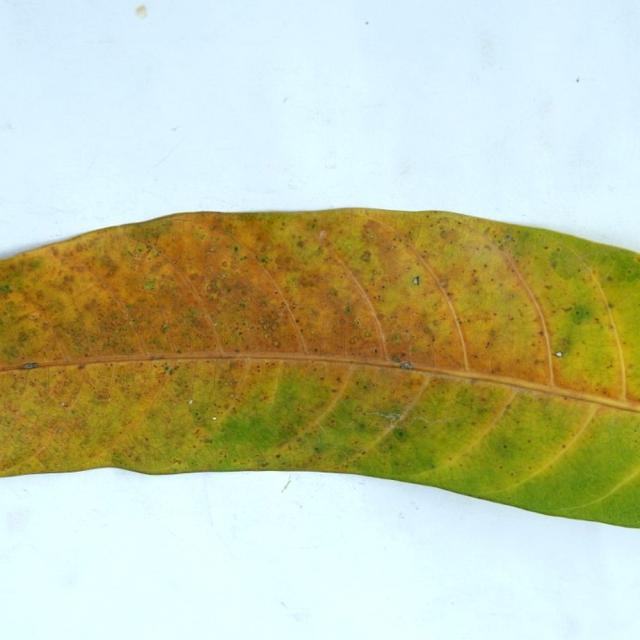Mango: (0, 209, 639, 527)
Powdery_Mildew: (356, 407, 451, 473), (374, 228, 420, 261), (550, 245, 590, 281), (6, 323, 41, 354), (453, 388, 492, 413), (611, 256, 640, 285), (296, 269, 330, 293), (415, 323, 438, 347), (171, 377, 193, 399), (569, 304, 593, 324), (129, 241, 149, 258), (554, 337, 571, 355), (205, 277, 223, 294), (260, 317, 279, 333), (392, 427, 407, 443), (396, 353, 413, 367), (497, 235, 515, 248), (103, 264, 117, 277), (4, 347, 19, 358), (359, 250, 371, 262), (390, 334, 402, 344), (143, 281, 155, 291), (187, 308, 198, 317), (28, 313, 40, 321), (469, 378, 481, 386), (166, 365, 176, 374), (296, 240, 306, 249), (440, 230, 450, 239), (392, 355, 401, 364), (382, 443, 392, 451), (550, 259, 558, 269), (260, 255, 270, 263), (362, 330, 372, 338), (438, 279, 447, 287), (1, 284, 11, 291), (238, 300, 246, 308), (343, 305, 351, 313), (354, 319, 362, 327), (204, 437, 213, 444), (86, 335, 95, 342), (204, 283, 211, 292), (42, 322, 51, 329), (150, 355, 160, 361), (607, 302, 615, 309), (221, 260, 229, 267), (606, 275, 614, 282), (447, 291, 455, 298), (162, 325, 169, 333), (127, 317, 135, 324), (349, 337, 357, 344), (78, 363, 86, 370), (413, 277, 420, 285), (504, 235, 513, 241), (193, 412, 200, 419), (113, 328, 120, 335), (544, 284, 552, 290), (484, 245, 492, 251), (209, 246, 217, 252), (313, 446, 320, 452), (233, 245, 239, 252), (273, 340, 280, 346), (355, 406, 362, 412), (125, 304, 132, 310), (261, 321, 268, 327), (173, 458, 180, 464), (260, 462, 268, 467), (293, 317, 299, 323), (628, 363, 634, 369), (391, 244, 397, 250), (275, 453, 281, 458), (313, 347, 319, 352), (538, 330, 544, 335), (280, 301, 286, 306), (563, 395, 569, 400), (373, 348, 378, 353), (456, 319, 461, 324), (229, 393, 234, 398), (264, 334, 269, 339), (235, 349, 240, 353), (510, 472, 515, 476), (561, 444, 566, 448), (503, 444, 507, 448), (499, 465, 503, 469), (145, 437, 149, 441)
